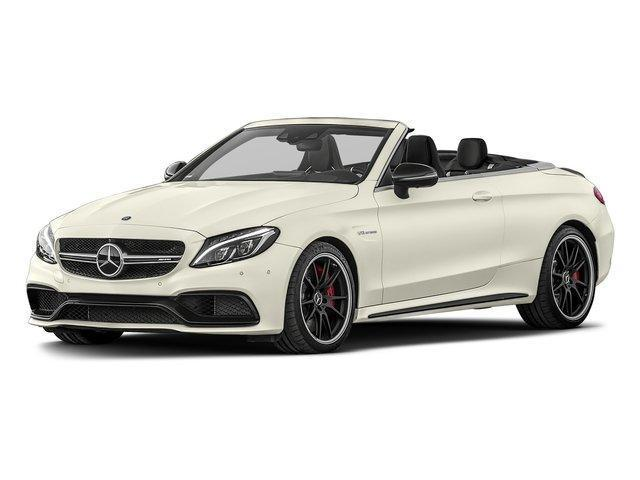C63AMG: (22, 113, 616, 361)
